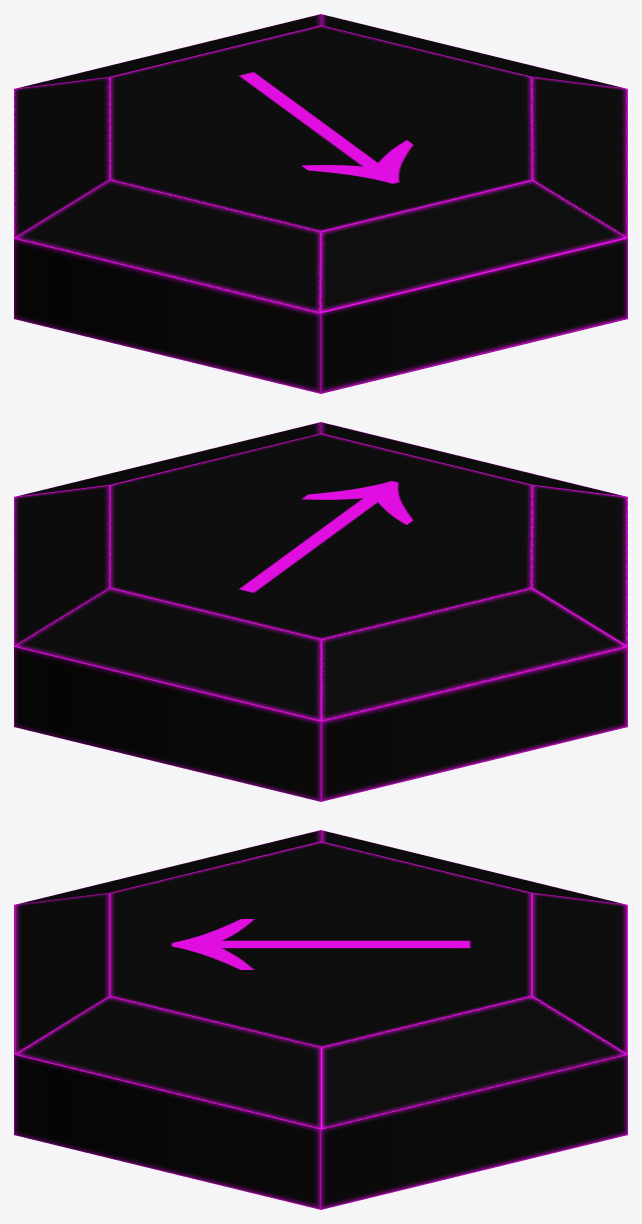
File: boostforward.FBX
The picture shows the model from 3 angles, top to bottom: view 1: azimuth 30°, elevation 25°; view 2: azimuth 150°, elevation 25°; view 3: azimuth 270°, elevation 25°; orthographic projection.
Visible parts, largest first — view 1: Cylinder001; view 2: Cylinder001; view 3: Cylinder001.
Part boxes in pixels (box(x1,y1,x2,y2)): Cylinder001: box(14, 14, 627, 393); Cylinder001: box(14, 422, 627, 801); Cylinder001: box(14, 830, 627, 1209).
Bounding box in the file's own units: 78.74 × 14.17 × 68.19.
Materials: 1 (1 with a texture image).
